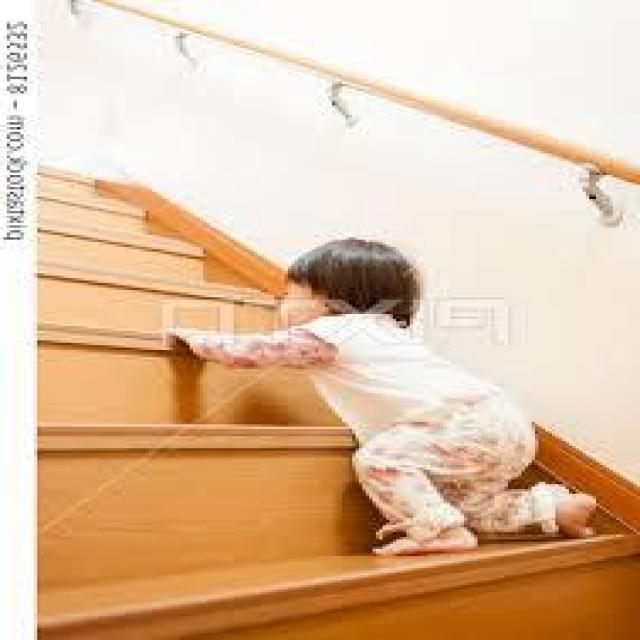child: (162, 235, 610, 563)
